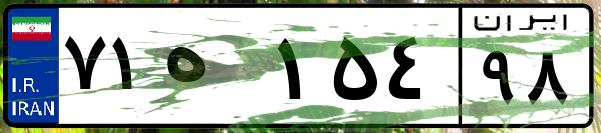1: (270, 28, 330, 110), (110, 28, 158, 98)
4: (385, 28, 445, 110)
5: (330, 28, 385, 110)
7: (57, 26, 110, 100)
8: (525, 38, 570, 115)
9: (475, 38, 525, 113)
ه: (158, 20, 270, 120)
